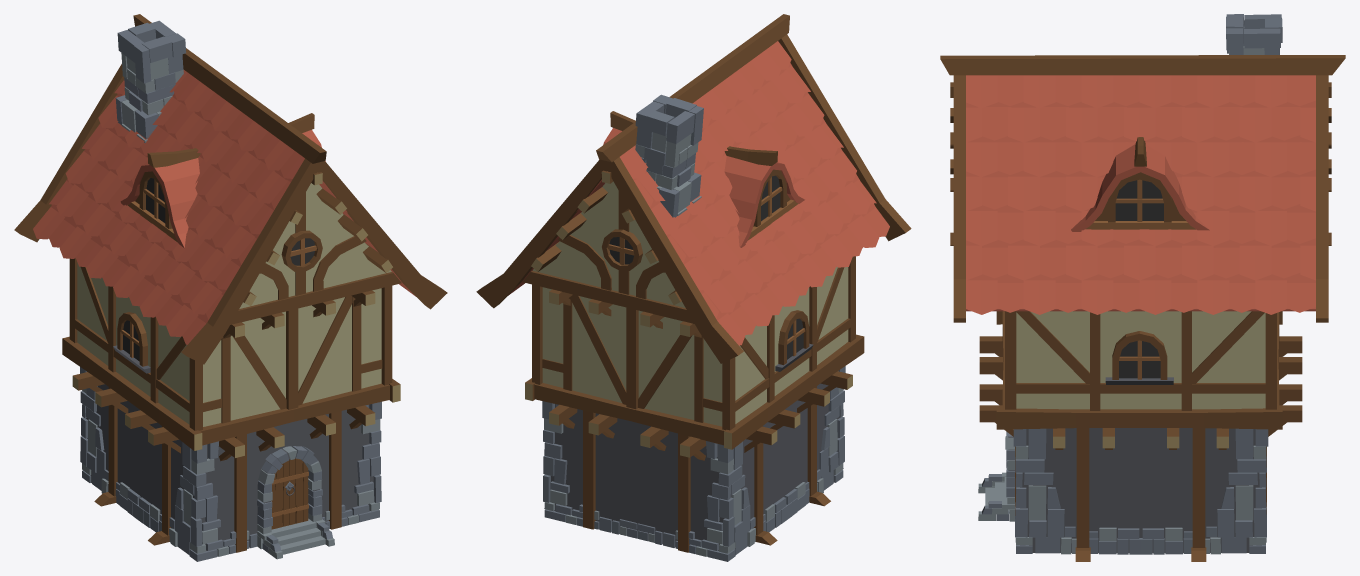
File: House_1.fbx
3 renders of one model, left to right at view 1: azimuth 30°, elevation 25°; view 2: azimuth 150°, elevation 25°; view 3: azimuth 270°, elevation 25°, orthographic. The views are drawn at different scales.
Visible parts, largest first — view 1: House_1; view 2: House_1; view 3: House_1.
Boxes of the visible parts, x1,y1,x2,y2 form: House_1: (14,14,447,561); House_1: (476,14,911,561); House_1: (940,14,1345,561).
Size of the model in its own units: 214 by 339 by 266.
